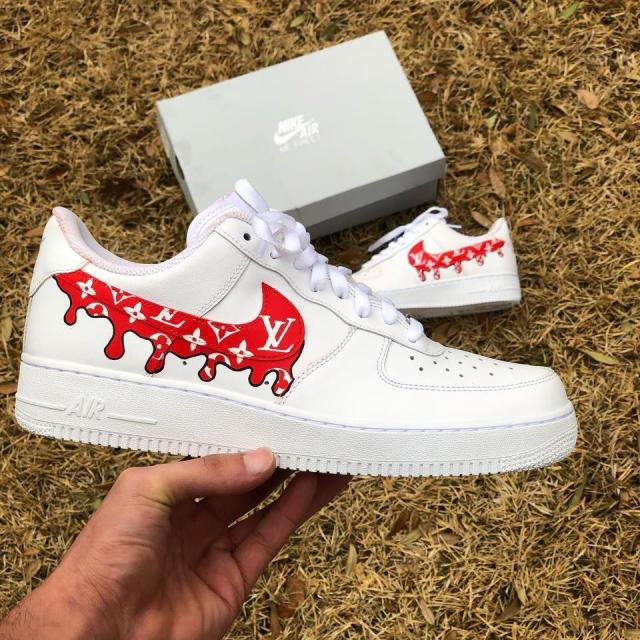shoe: (19, 209, 580, 470), (358, 211, 524, 310)
